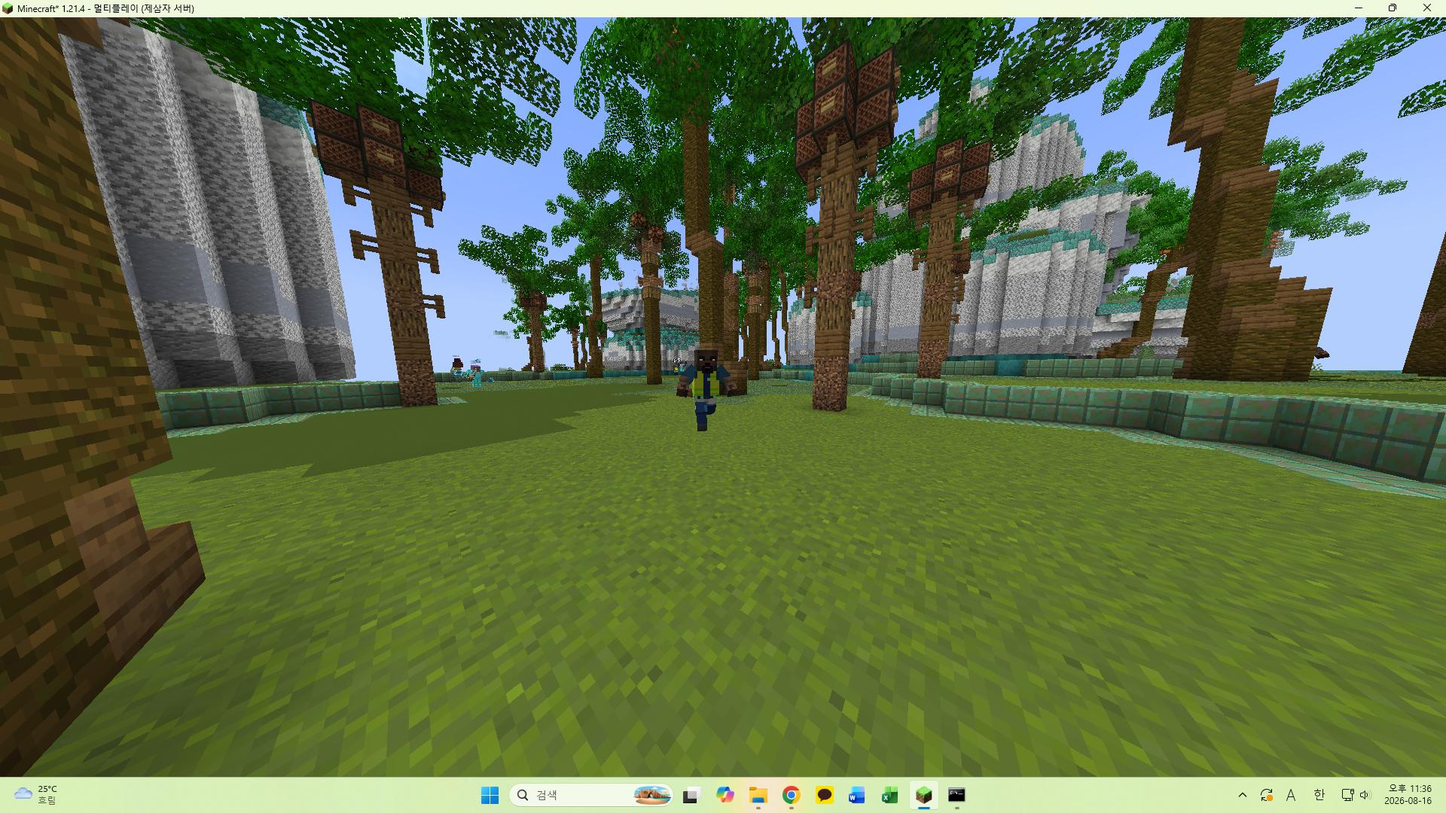Guardian: (676, 349, 735, 431)
